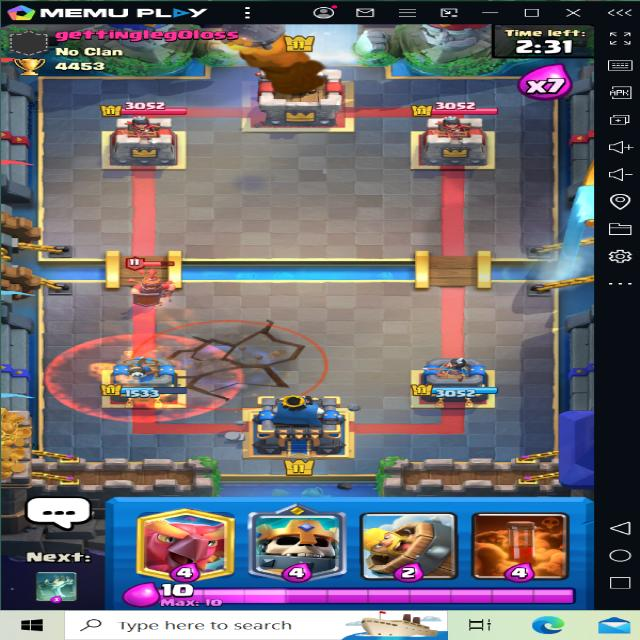earthquake: (140, 320, 320, 412)
poison: (44, 328, 243, 424)
royal-recruits: (125, 256, 179, 310)
